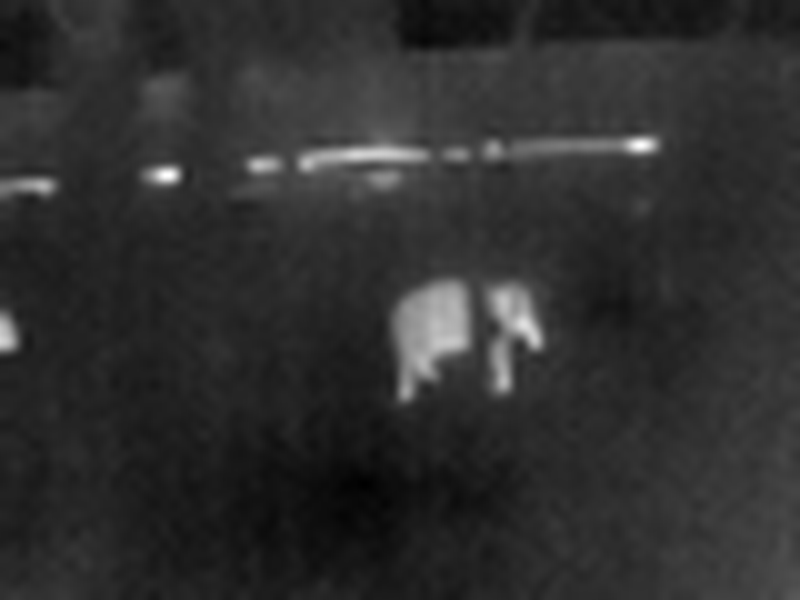elephant: (373, 277, 591, 375)
